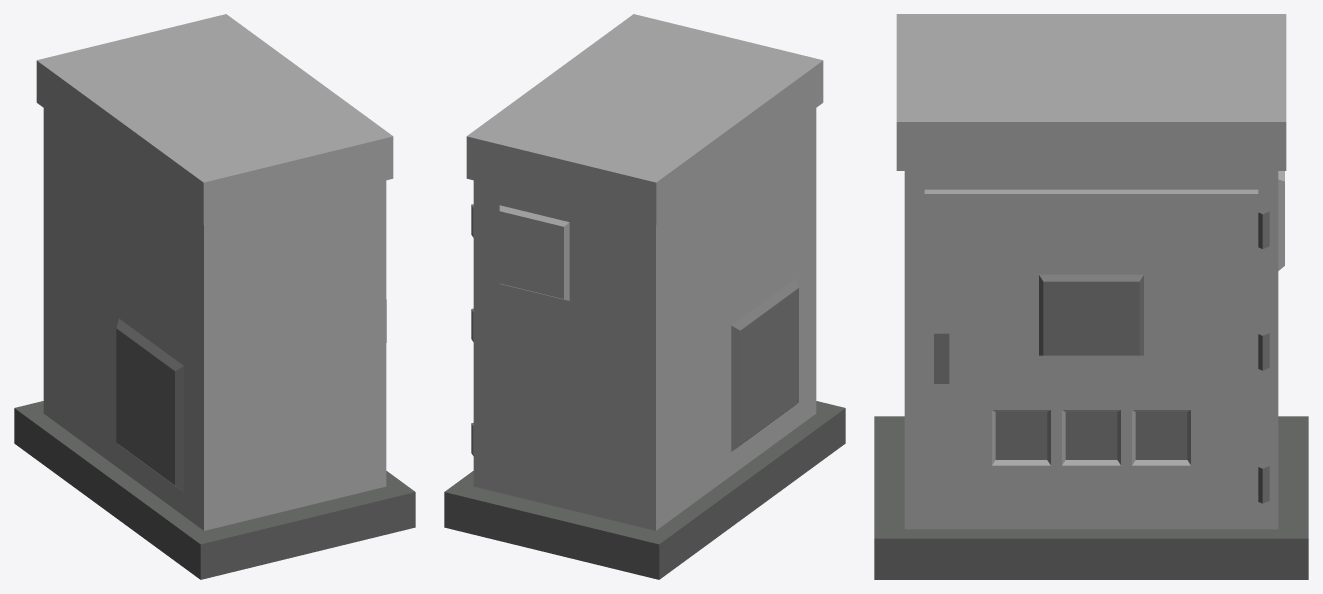
File: SM_metal_box.gltf
3 views of the same model, side by side, from view 1: azimuth 30°, elevation 25°; view 2: azimuth 150°, elevation 25°; view 3: azimuth 270°, elevation 25° (orthographic). The views are drawn at different scales.
Visible parts, largest first — view 1: SM_metal_box; view 2: SM_metal_box; view 3: SM_metal_box.
Boxes of the visible parts, box(x1,y1,x2,y2) form: SM_metal_box: box(14, 14, 415, 579); SM_metal_box: box(444, 14, 845, 579); SM_metal_box: box(874, 14, 1308, 579).
Size of the model in its own units: 0.5743 by 0.9884 by 0.8626.
1 material, 1 textured.
